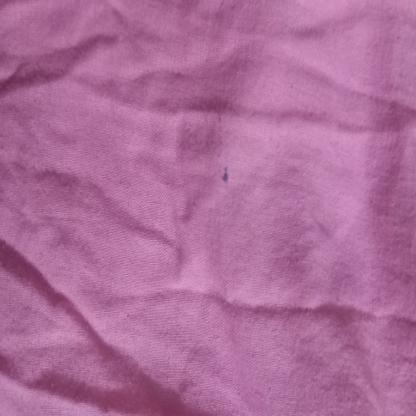spot: (216, 102, 235, 194)
